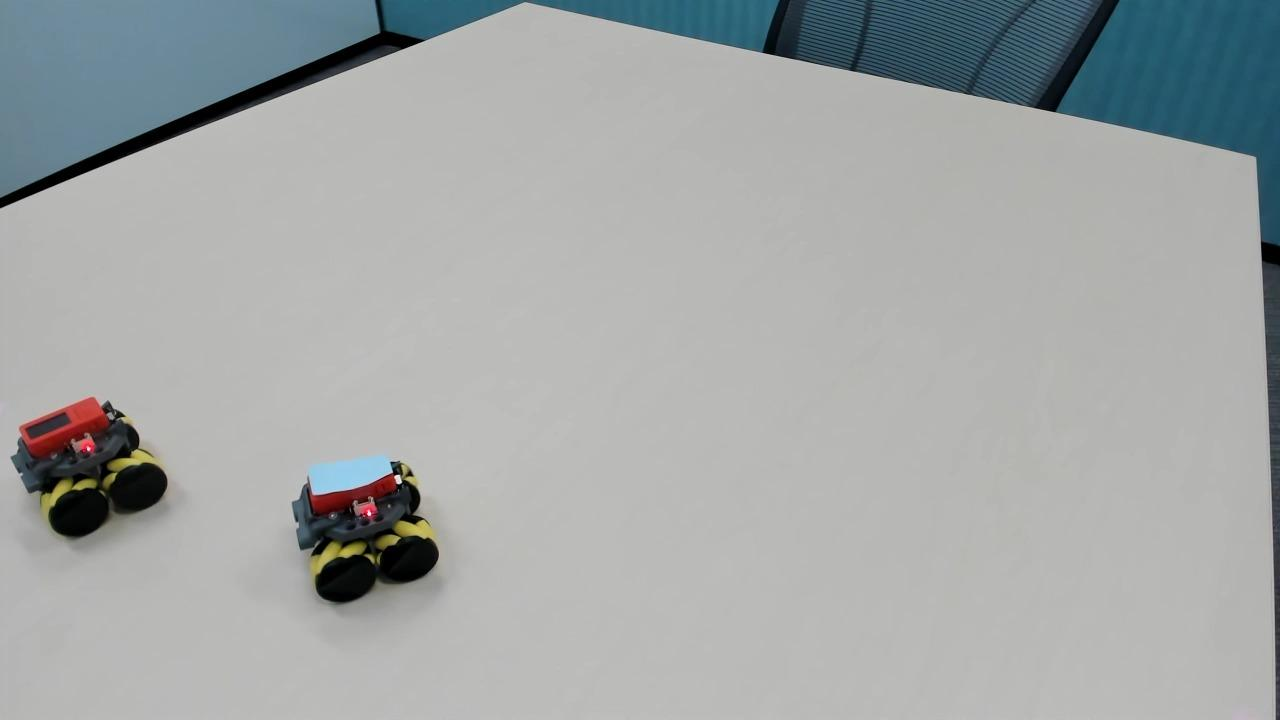B-Robot: (286, 445, 454, 610)
R-Robot: (0, 394, 185, 545)
